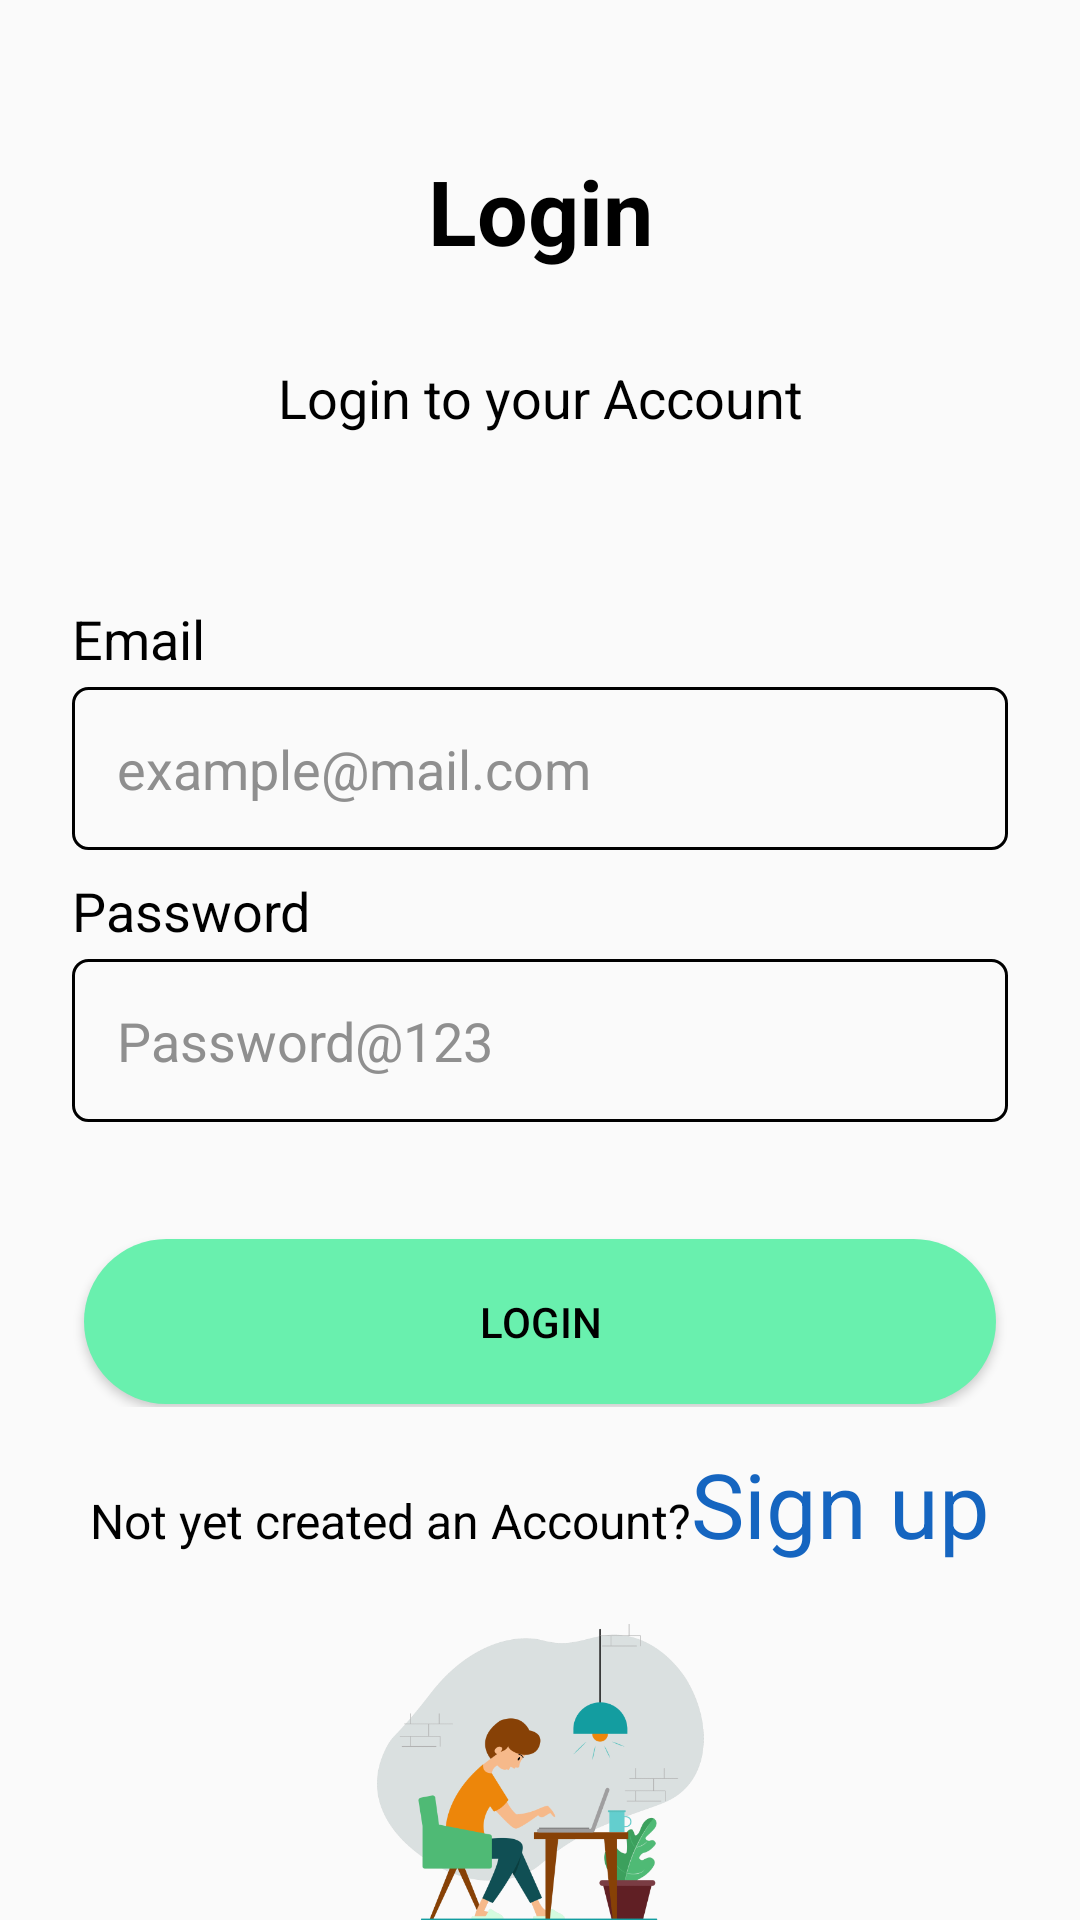

Named icons in this screenshot (1080×1920) and their bounding boxes, (x1, y1, x2, y2):
workingman: (377, 1624, 704, 1920)
